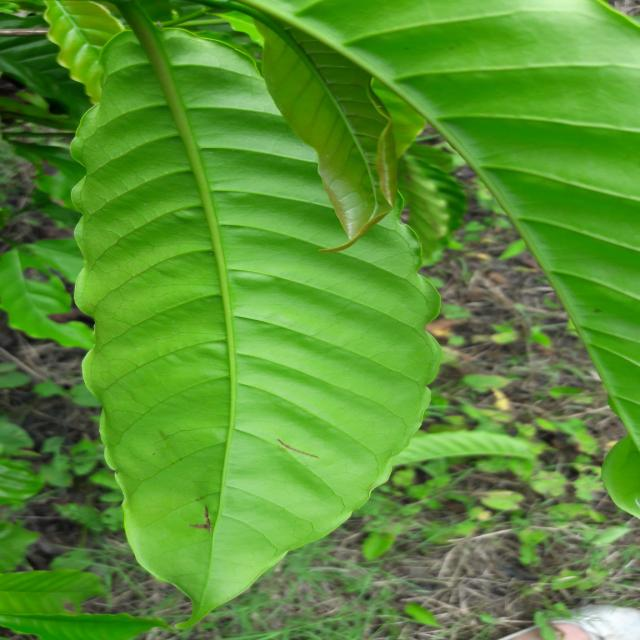Sanas: (43, 0, 448, 618)
